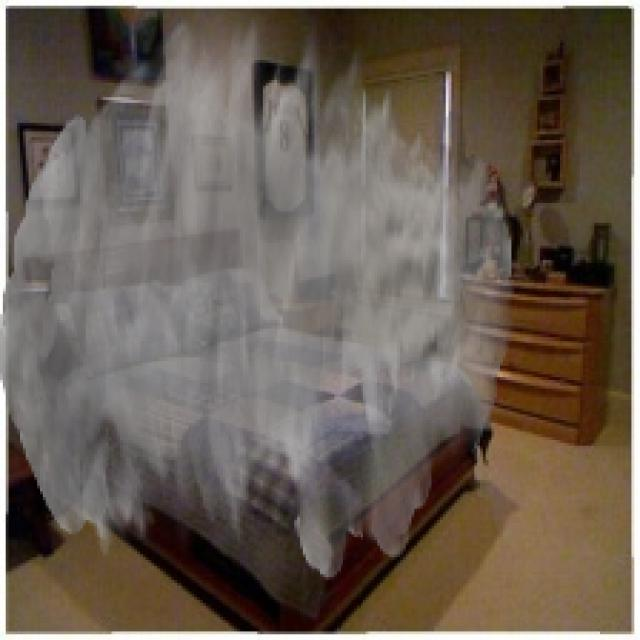Smoke: (0, 11, 515, 580)
